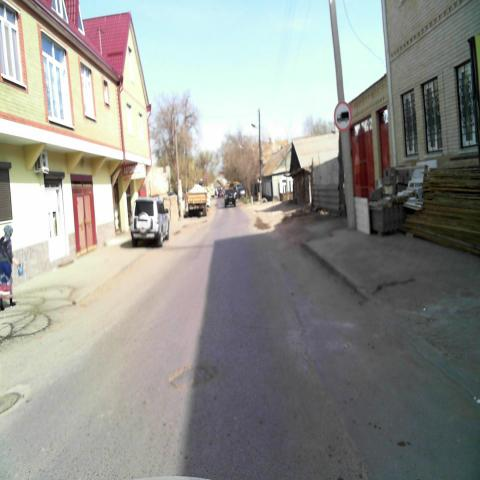3_4_1: (333, 100, 352, 132)
